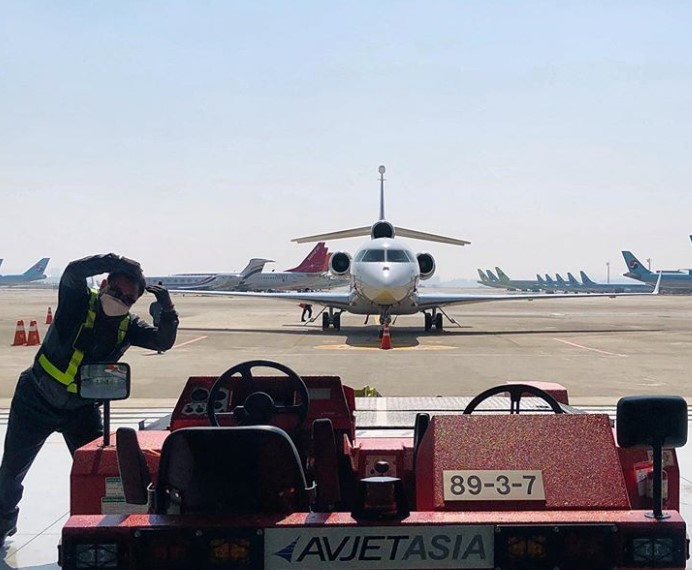face_with_mask: (96, 260, 146, 320)
